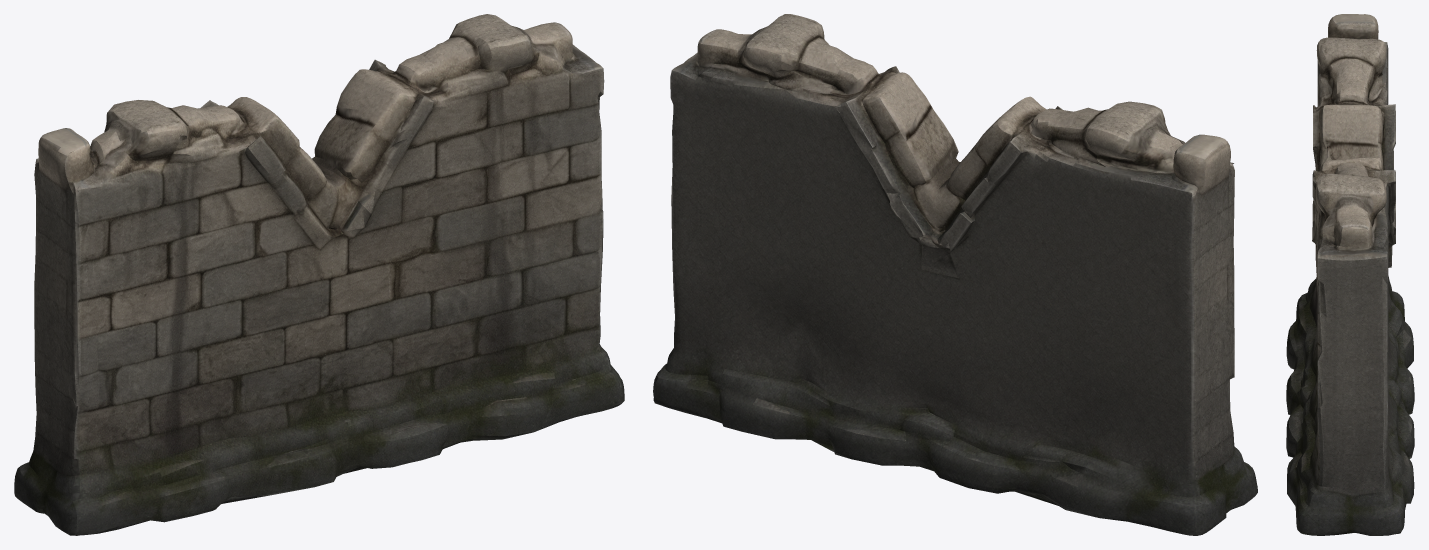
Rendered from ok-ruin-wall-straight-meshy.glb.
3 views of the same model, side by side, from view 1: azimuth 30°, elevation 25°; view 2: azimuth 150°, elevation 25°; view 3: azimuth 270°, elevation 25° (orthographic). The views are drawn at different scales.
Size of the model in its own units: 1.9 by 1.23 by 0.4587.
1 material, 1 textured.
